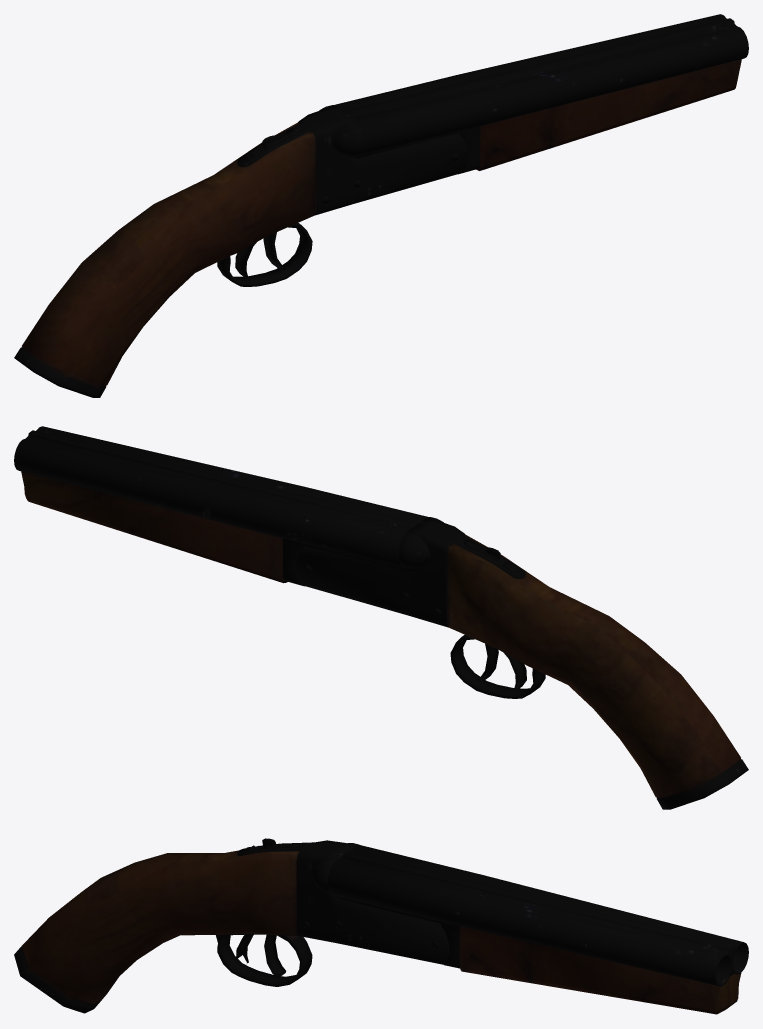
File: canon_scie.glb
The picture shows the model from 3 angles, top to bottom: view 1: azimuth 30°, elevation 25°; view 2: azimuth 150°, elevation 25°; view 3: azimuth 330°, elevation 25°; orthographic projection.
Visible parts, largest first — view 1: Circle.004_Circle.001, Cylinder, Cylinder.007_Cylinder.008; view 2: Circle.004_Circle.001, Cylinder, Cylinder.007_Cylinder.008; view 3: Circle.004_Circle.001, Cylinder, Cylinder.007_Cylinder.008.
Part boxes in pixels (x1,y1,x2,y2): Circle.004_Circle.001: (14,105,468,397); Cylinder: (334,14,748,174); Cylinder.007_Cylinder.008: (235,232,285,278); Circle.004_Circle.001: (296,517,748,809); Cylinder: (14,426,428,586); Cylinder.007_Cylinder.008: (477,643,526,691); Circle.004_Circle.001: (14,838,449,1013); Cylinder: (326,845,748,1014); Cylinder.007_Cylinder.008: (236,934,285,977).
Bounding box in the file's own units: 4.53 × 1.33 × 0.425.
Materials: 1 (1 with a texture image).
